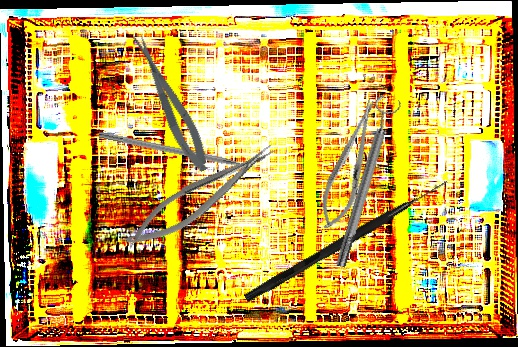Fixation Ring: (325, 93, 405, 271)
Hook Surgical: (243, 174, 450, 306), (97, 130, 266, 175)
Micro Scissor: (128, 28, 215, 177)
Needle Holder: (116, 136, 286, 258), (312, 94, 388, 235)
